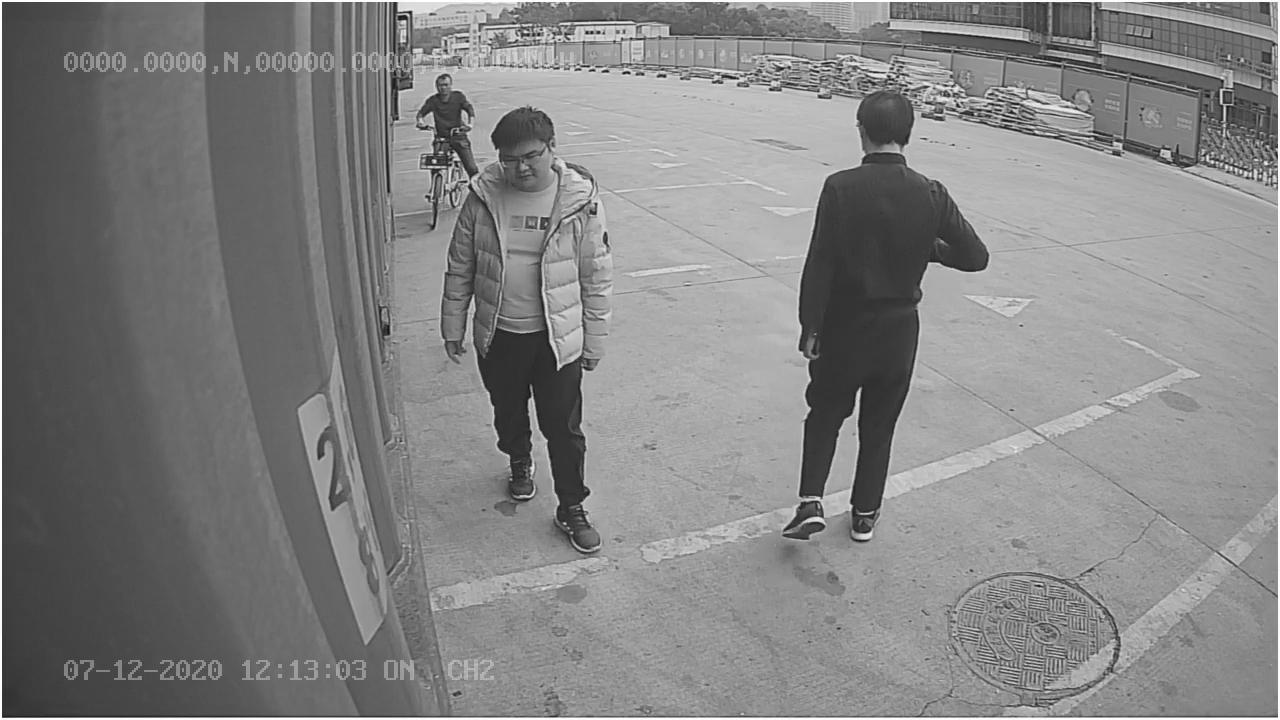person: (777, 88, 993, 545), (440, 96, 629, 566)
